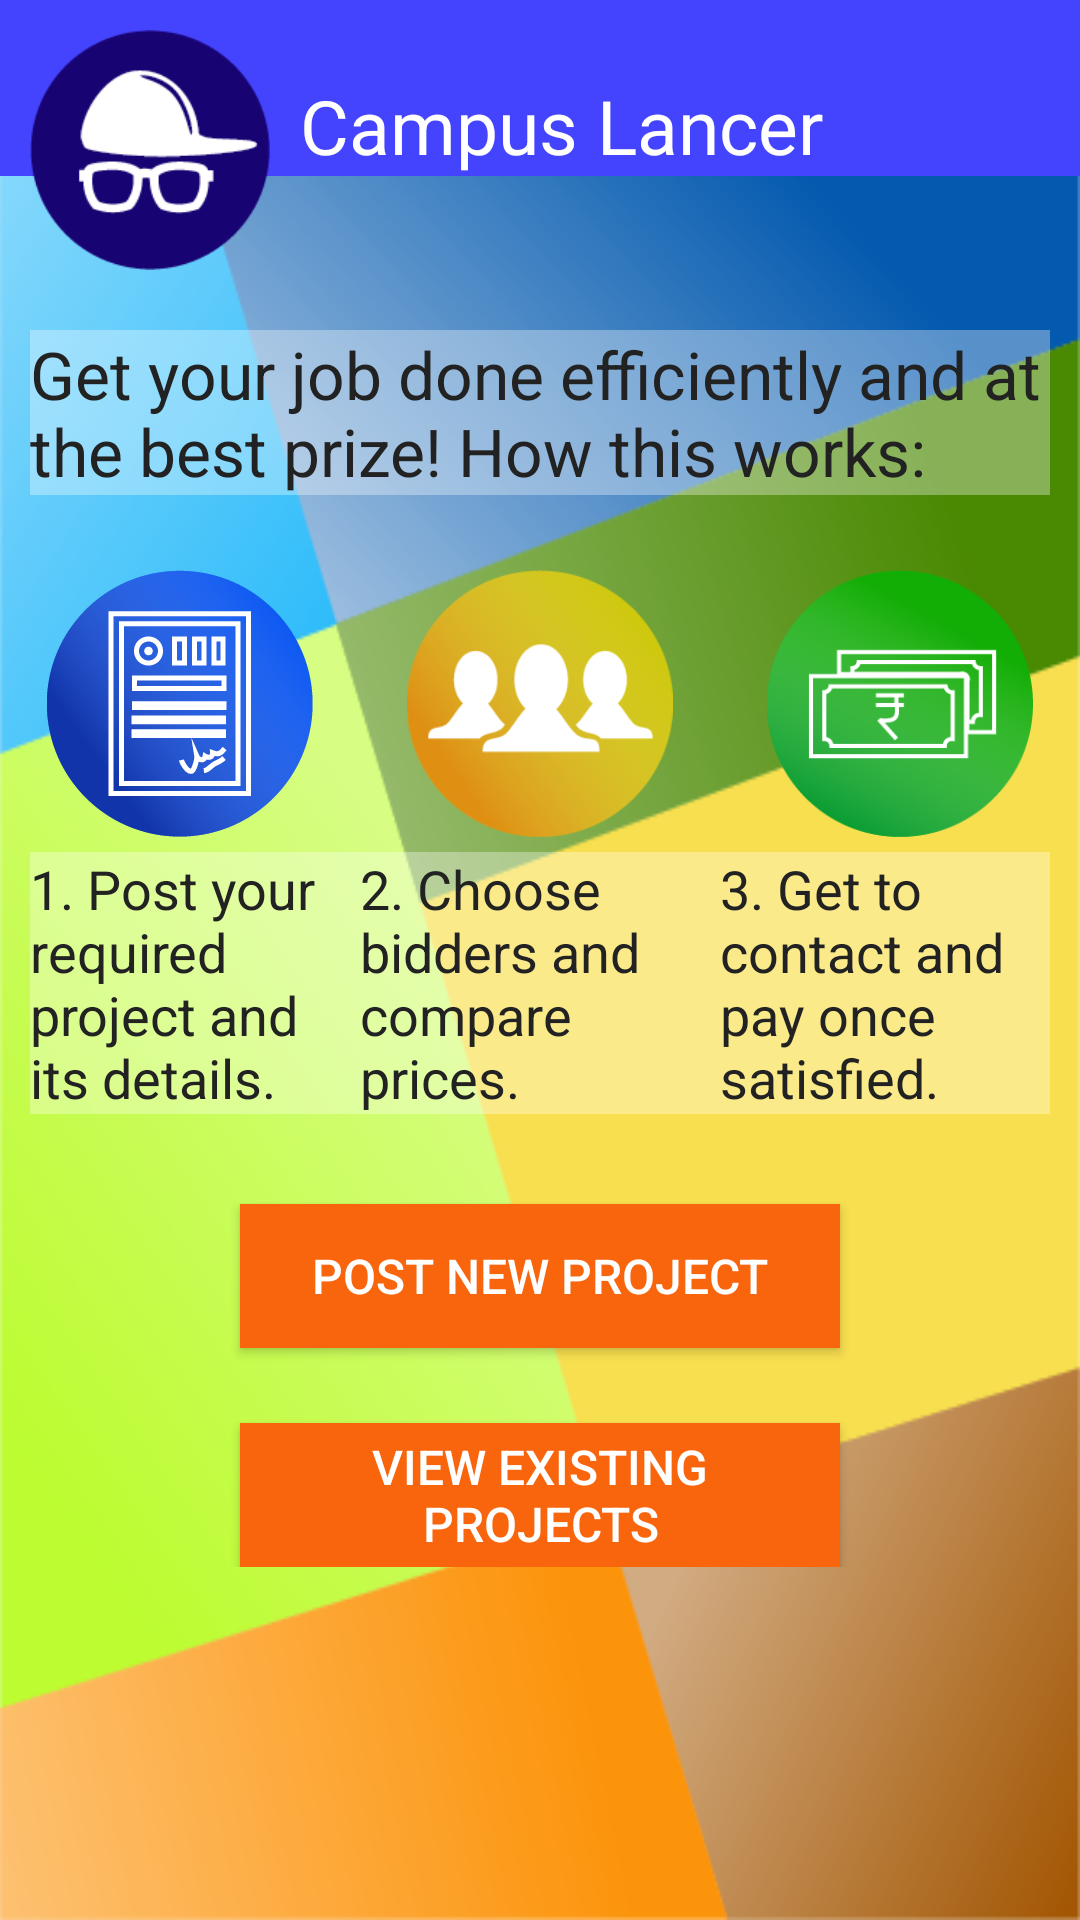

Icons on this 1080 × 1920 Android screen, each with the point to tap as (x,y):
money: (900,703)
peoplebids: (540,703)
